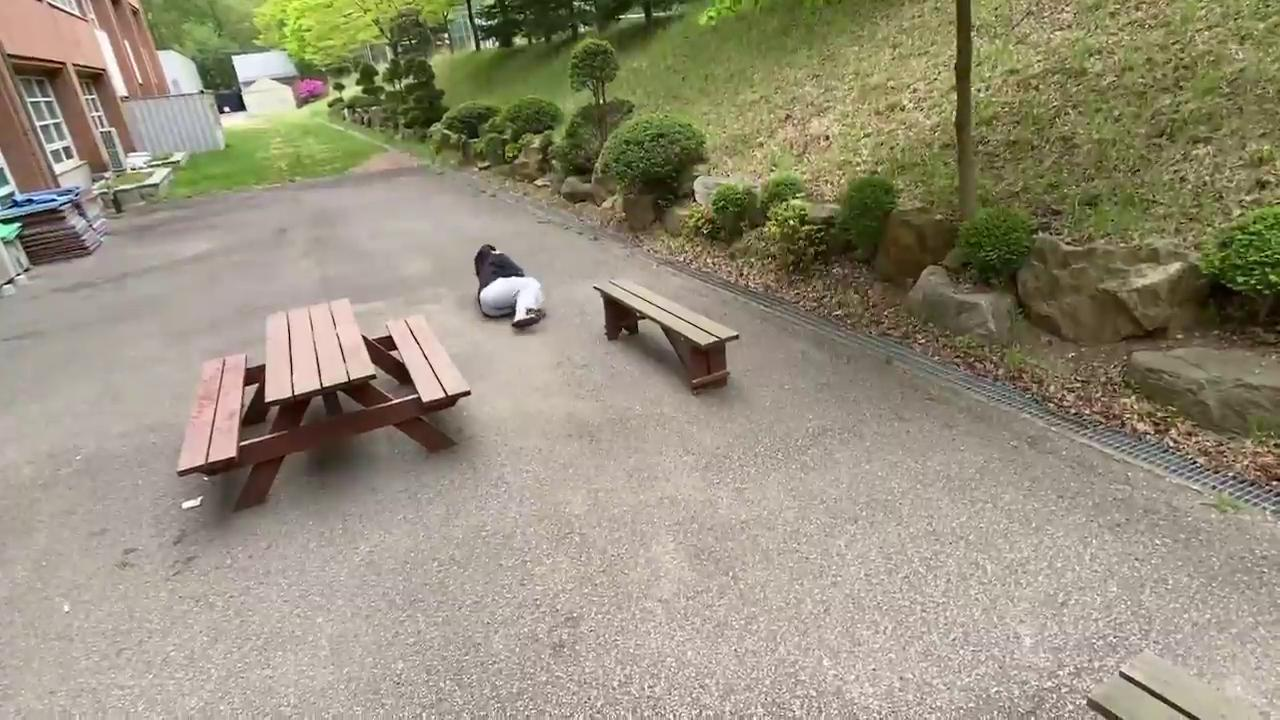fall_down: (470, 241, 553, 328)
